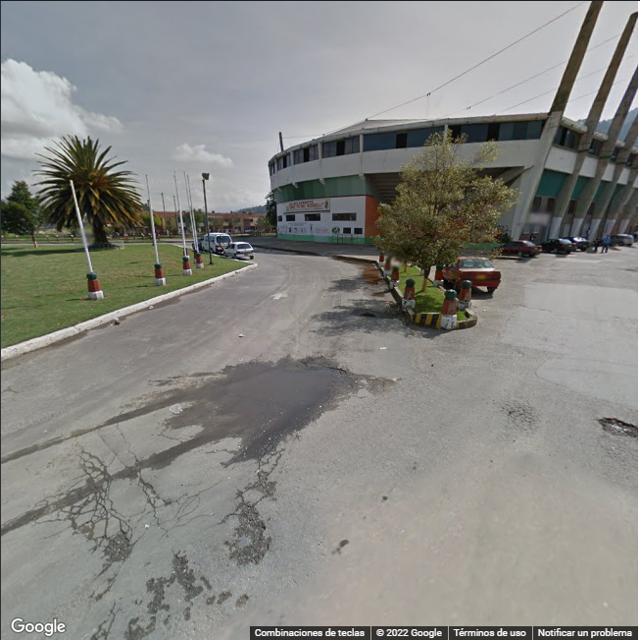D00: (239, 446, 290, 492), (180, 475, 226, 511), (88, 565, 121, 601)
D10: (113, 419, 142, 466), (145, 496, 170, 543)
D20: (57, 492, 132, 557)
